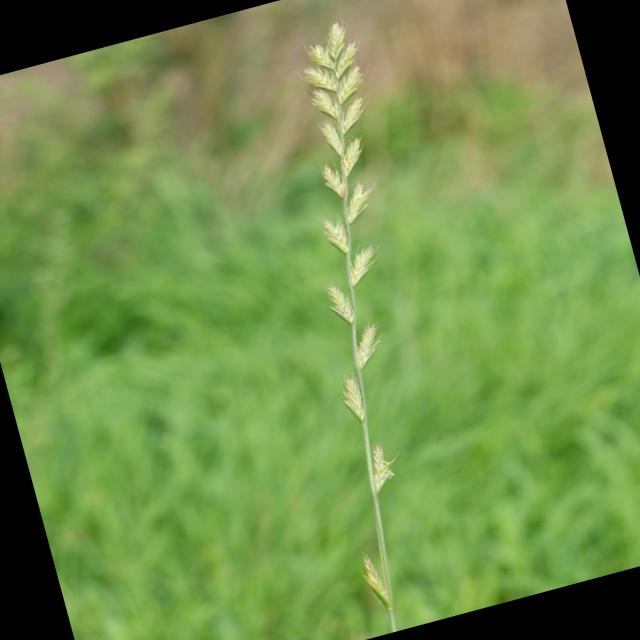Lolium: (219, 13, 510, 632)
